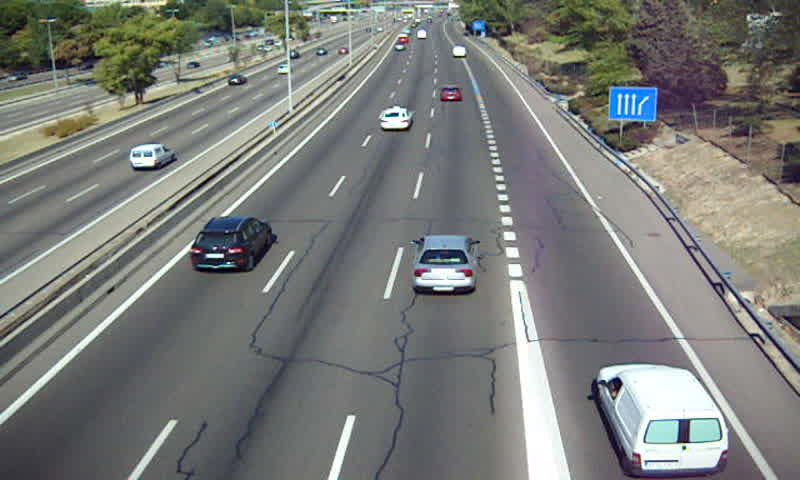car: (190, 216, 271, 272), (413, 235, 478, 292), (379, 106, 412, 132), (440, 85, 462, 102)
van: (594, 364, 730, 475)
